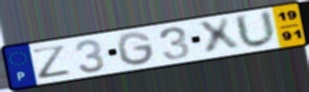3: (158, 26, 190, 61), (75, 38, 106, 74)
G: (115, 31, 157, 67)
U: (232, 8, 279, 50)
X: (195, 16, 243, 57)
Z: (29, 43, 73, 80)
